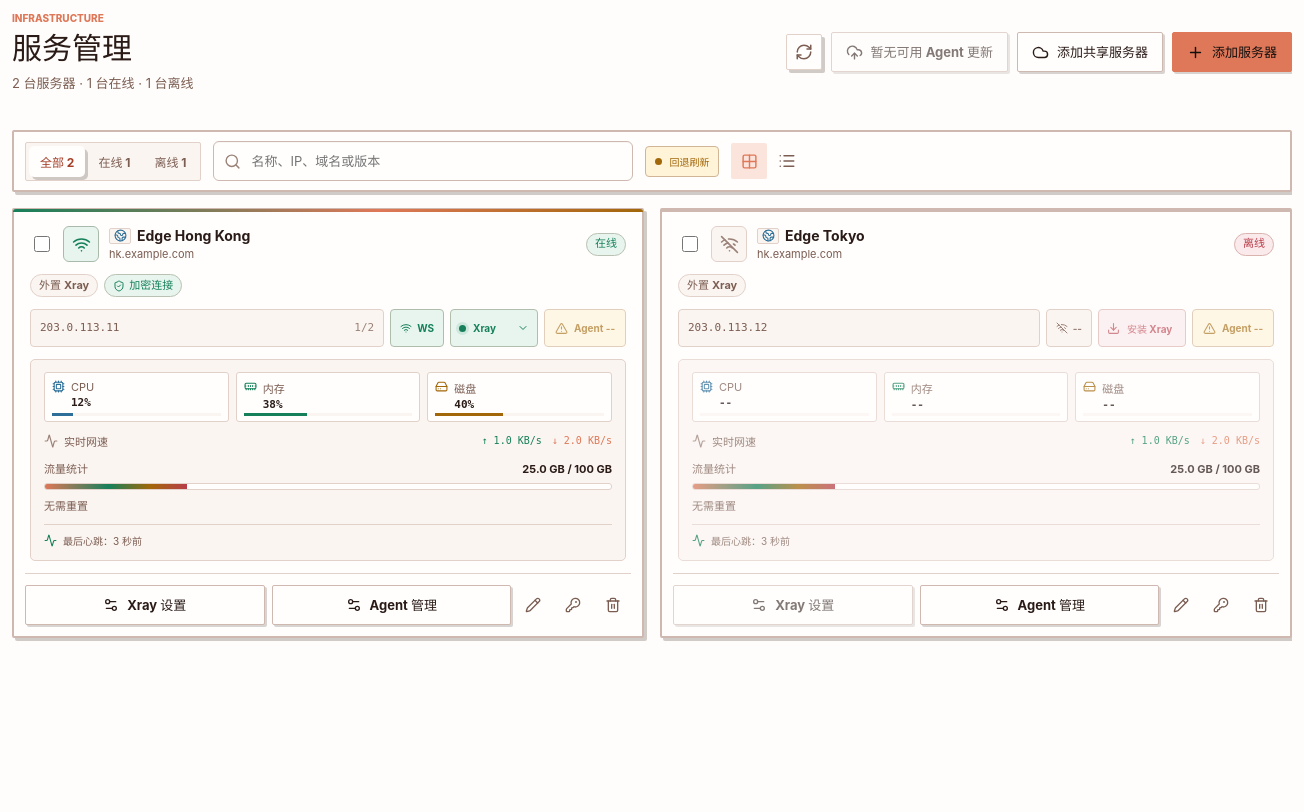
service management workbench › never falls back to unselected online servers when an offline server is selected
Expected: the text "Edge Hong Kong" is shown, [137,227,250,244]
Click the checkbox named "选择 Edge Tokyo" at (690, 244), box [682,236,698,252]
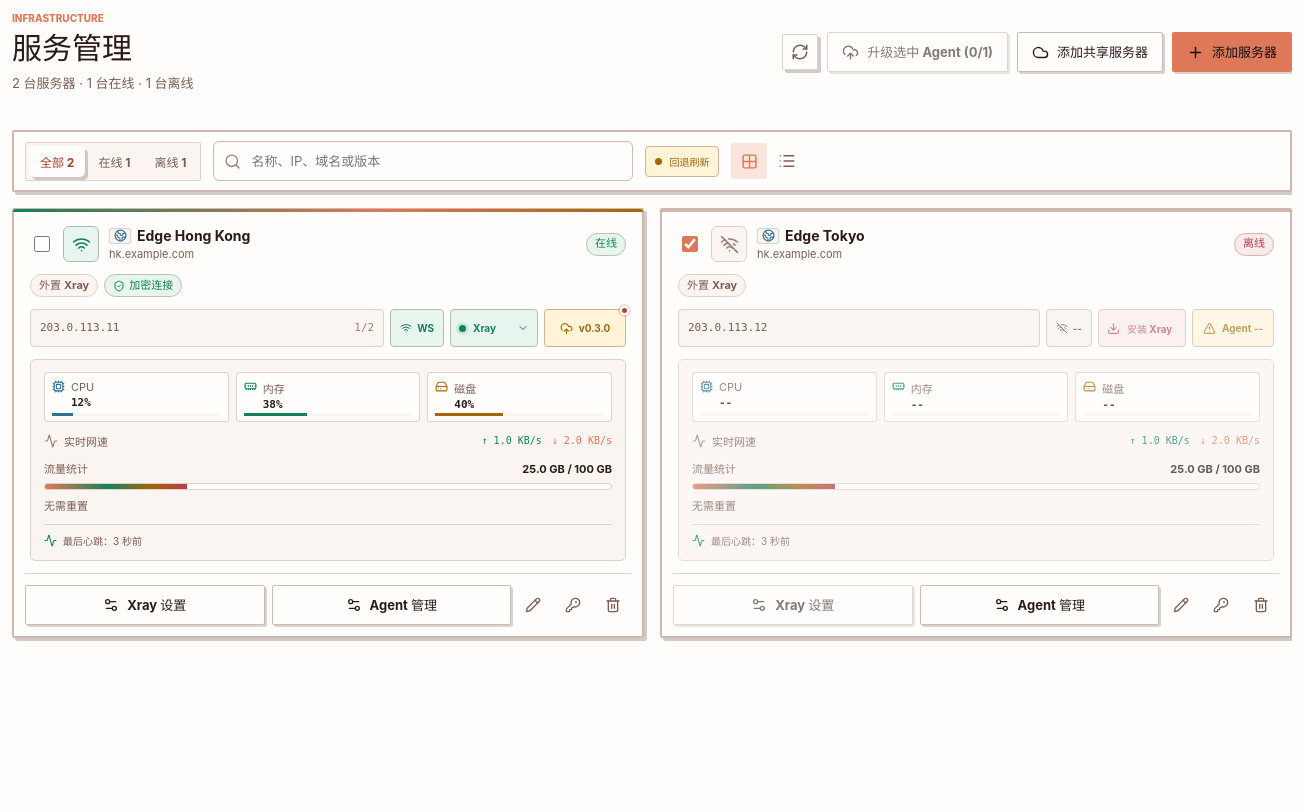
Expected: the button "升级选中 Agent (0/1)" is disabled, [827,32,1008,72]
Click the checkbox named "选择 Edge Hong Kong" at (42, 244), box [34,236,50,252]
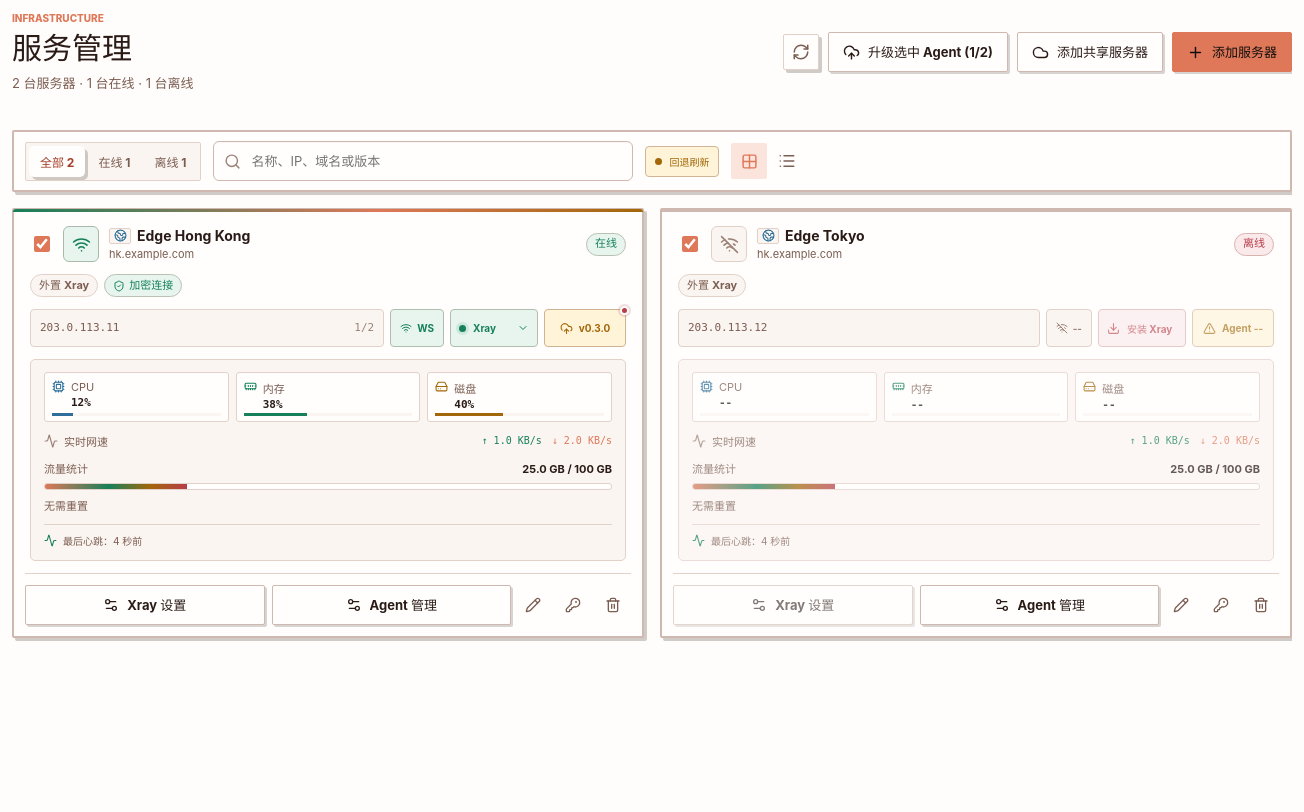
Expected: the button "升级选中 Agent (1/2)" is enabled, [828,32,1008,72]
